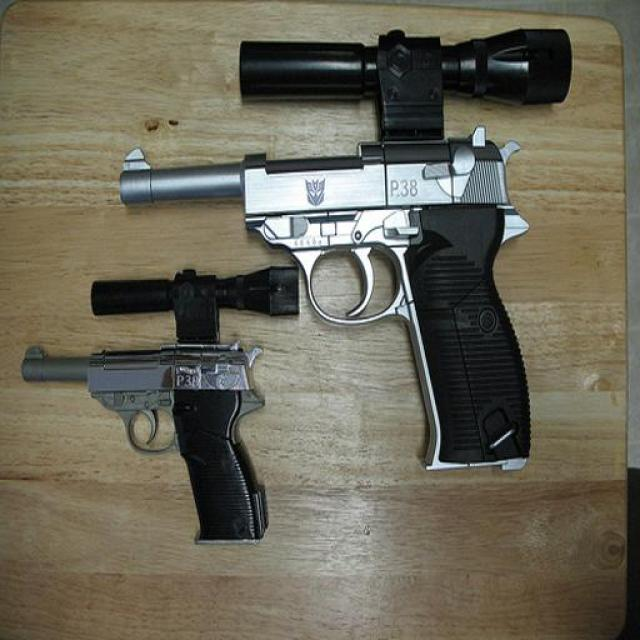pistol: (116, 124, 526, 473), (19, 338, 270, 543)
